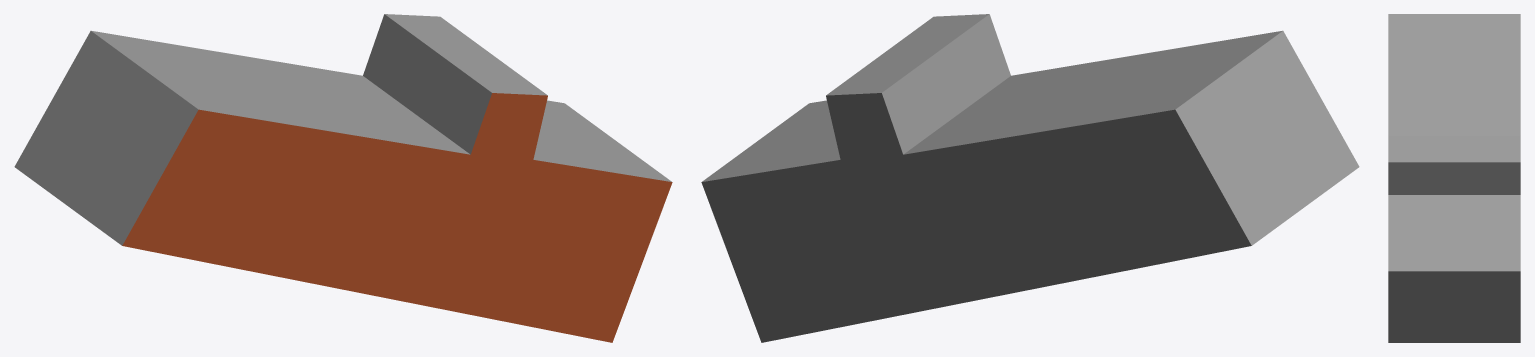
File: construction_5194_assumed_A_Casa_h6m.obj
3 views of the same model, side by side, from view 1: azimuth 30°, elevation 25°; view 2: azimuth 150°, elevation 25°; view 3: azimuth 270°, elevation 25° (orthographic). The views are drawn at different scales.
Parts seen in each view (by area): view 1: construction_5194_assumed_A_Casa; view 2: construction_5194_assumed_A_Casa; view 3: construction_5194_assumed_A_Casa.
Part boxes in pixels (left/top/right/bottom): construction_5194_assumed_A_Casa: left=14, top=14, right=672, bottom=342; construction_5194_assumed_A_Casa: left=701, top=14, right=1359, bottom=342; construction_5194_assumed_A_Casa: left=1388, top=14, right=1520, bottom=342.
Size of the model in its own units: 17.68 by 10.26 by 6.
